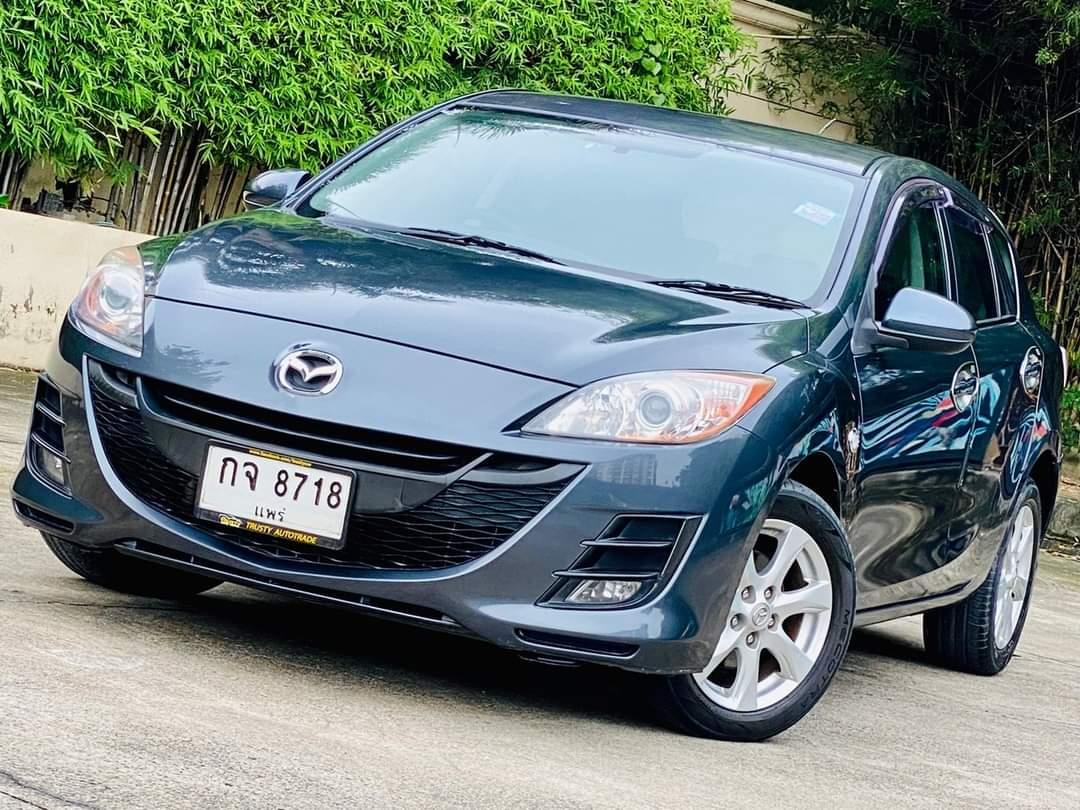license-plate: (189, 438, 360, 556)
